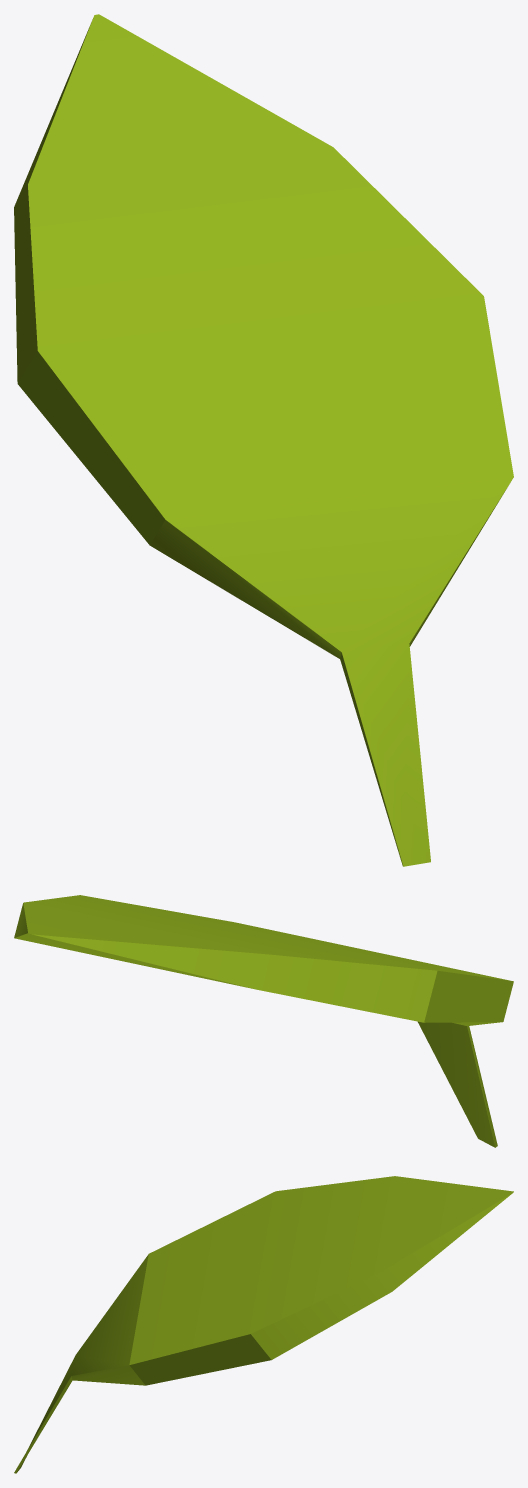
Rendered from Vegetation_Modular_Tree_Foliage_Common_Leaf_02.fbx.
3 views of the same model, one above another, from view 1: azimuth 30°, elevation 25°; view 2: azimuth 150°, elevation 25°; view 3: azimuth 270°, elevation 25° (orthographic). The views are drawn at different scales.
Visible parts, largest first — view 1: Vegetation_Modular_Tree_Foliage_Common_Leaf_02; view 2: Vegetation_Modular_Tree_Foliage_Common_Leaf_02; view 3: Vegetation_Modular_Tree_Foliage_Common_Leaf_02.
Boxes of the visible parts, bbox=[...] form: Vegetation_Modular_Tree_Foliage_Common_Leaf_02: bbox=[14, 14, 513, 866]; Vegetation_Modular_Tree_Foliage_Common_Leaf_02: bbox=[14, 895, 513, 1147]; Vegetation_Modular_Tree_Foliage_Common_Leaf_02: bbox=[14, 1176, 513, 1473].
Size of the model in its own units: 12.74 by 14.8 by 21.78.
